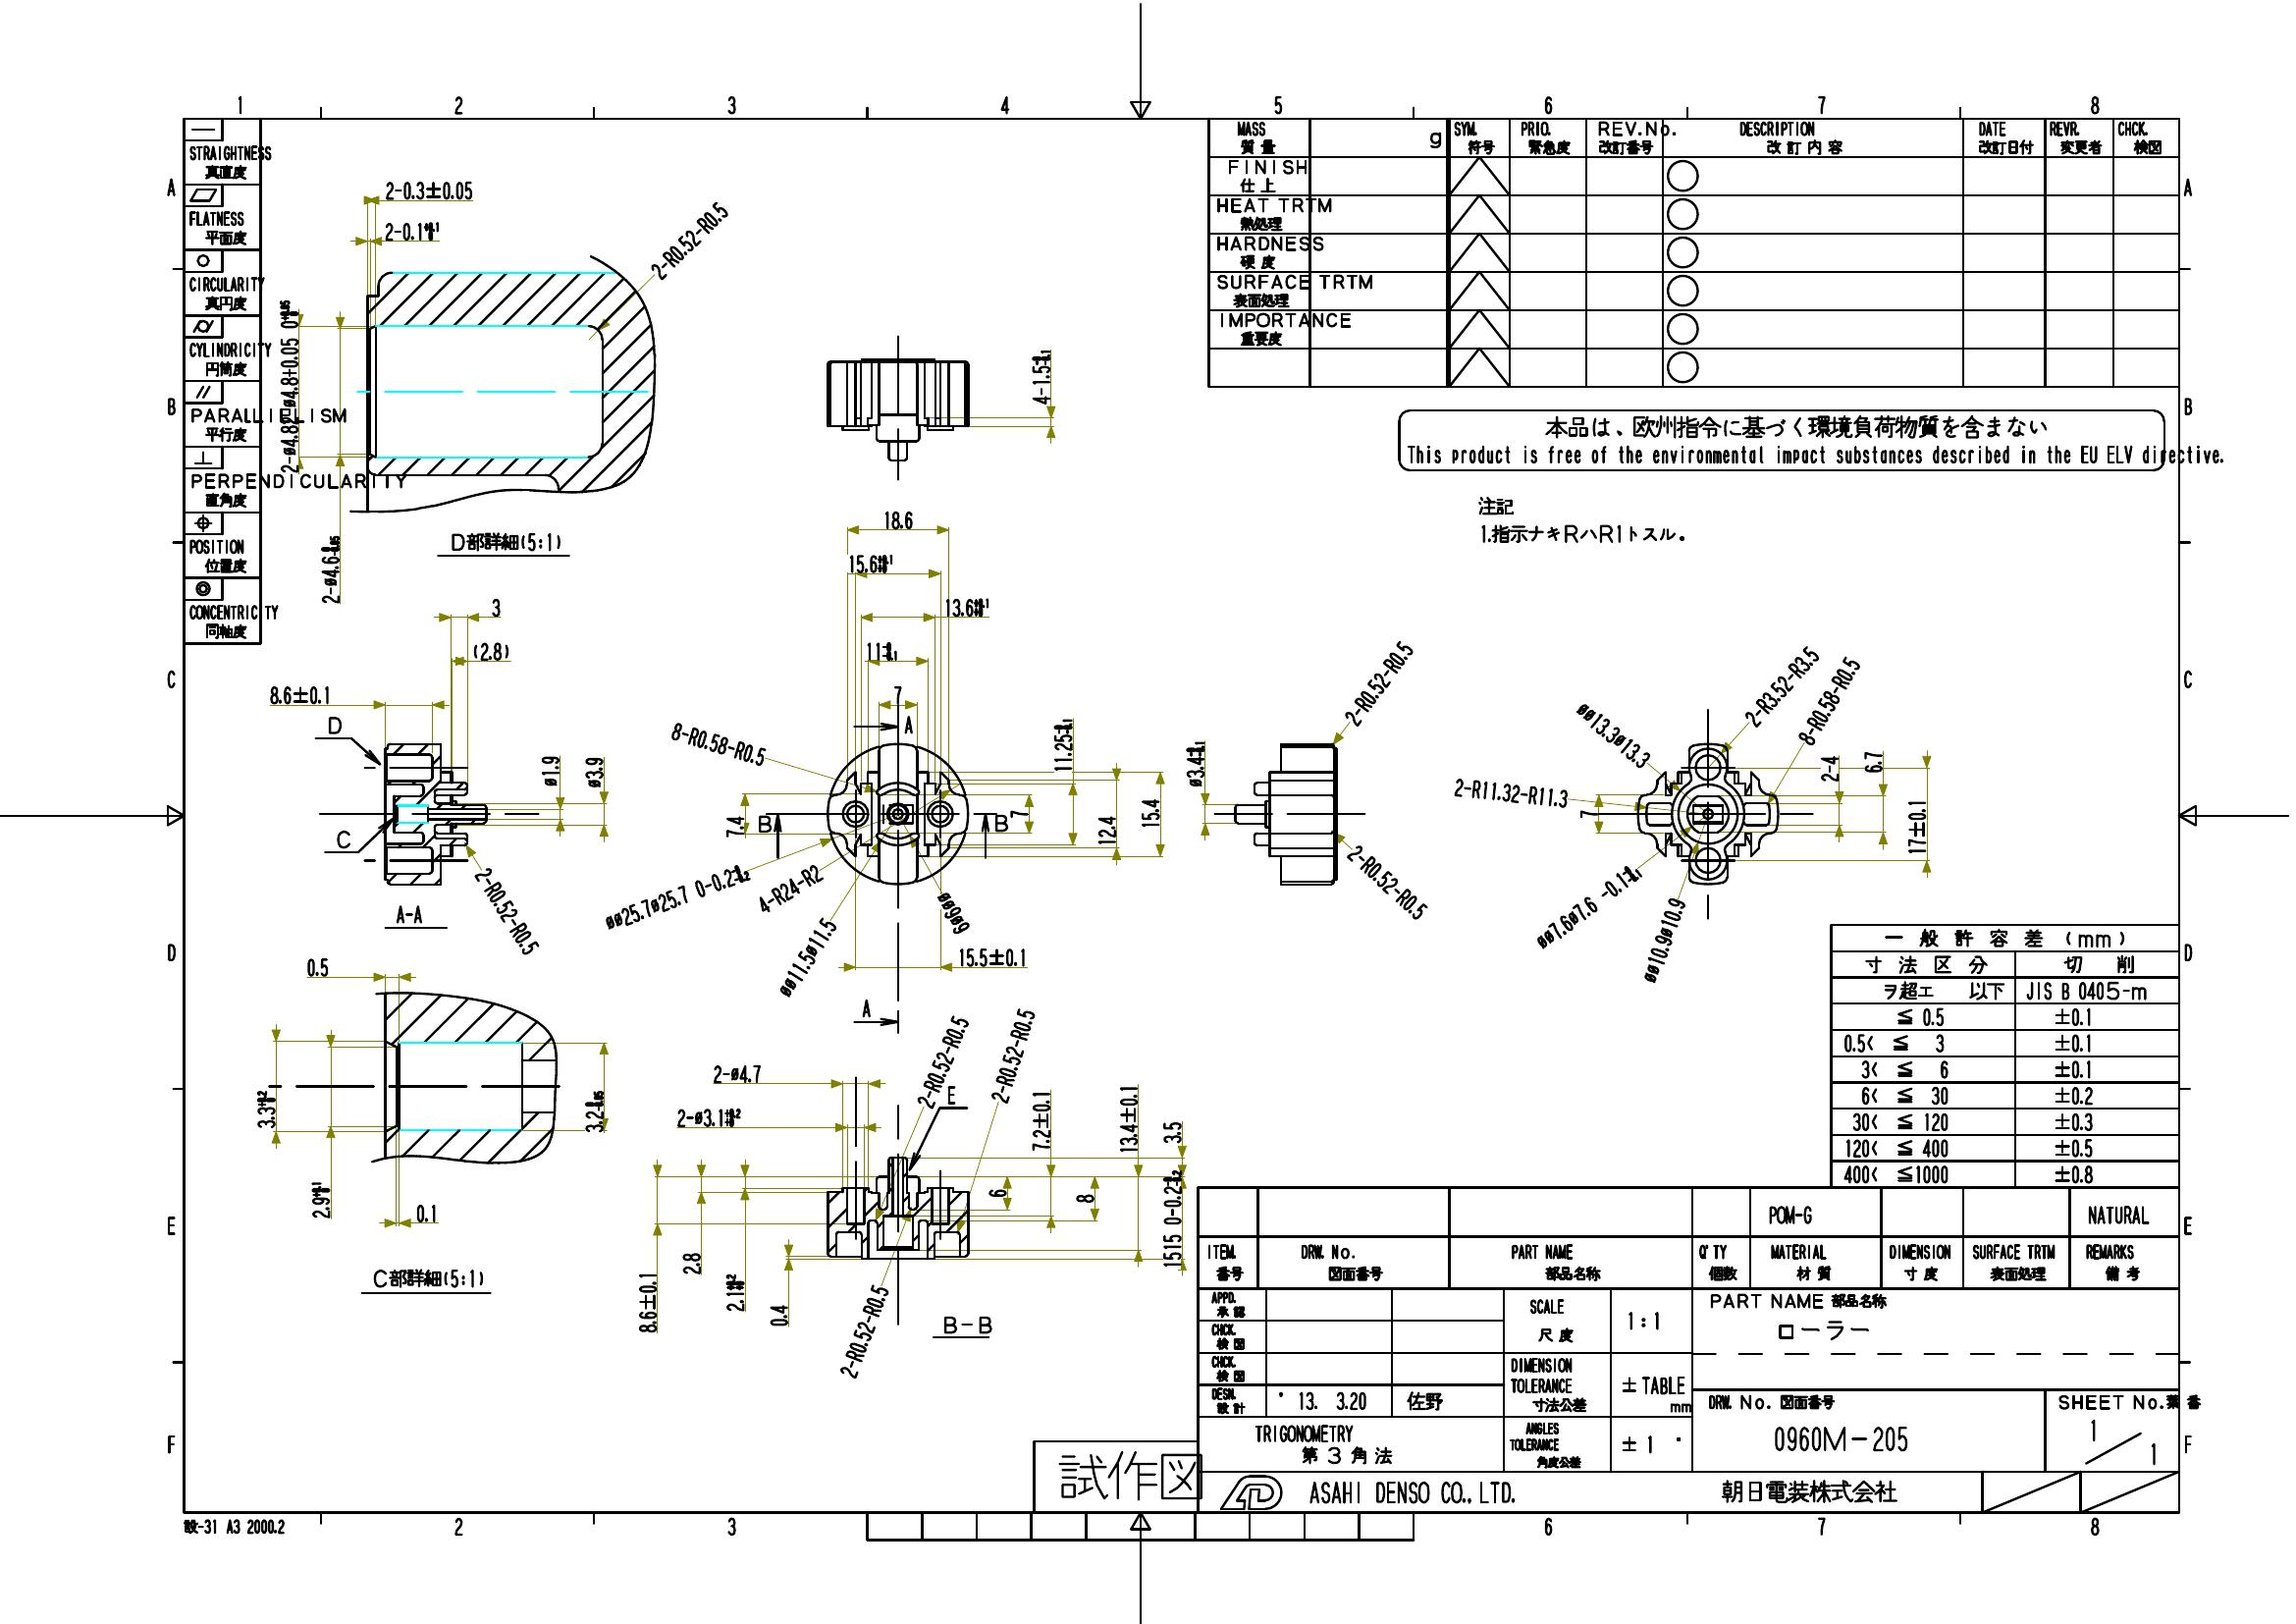anntotation_text: (1398, 408, 2164, 471), (1031, 1439, 1196, 1513), (1477, 492, 1685, 543), (371, 1265, 487, 1290), (448, 529, 562, 554), (181, 1515, 285, 1536), (940, 1313, 993, 1334), (393, 903, 423, 924), (332, 828, 355, 849), (323, 714, 346, 735), (856, 997, 875, 1018), (755, 814, 773, 831), (943, 1084, 959, 1104), (993, 816, 1010, 831), (903, 715, 913, 736)
dimension_text: (599, 886, 754, 907), (1525, 895, 1651, 916), (1449, 782, 1569, 803), (639, 228, 740, 251), (1161, 1167, 1182, 1267), (1816, 652, 1838, 750), (933, 1014, 954, 1109), (1337, 872, 1437, 891), (383, 179, 474, 200), (1651, 895, 1672, 986), (497, 861, 516, 960), (1003, 1005, 1022, 1104), (1773, 636, 1792, 735), (1569, 724, 1658, 745), (669, 735, 766, 754), (854, 1283, 873, 1380), (1368, 634, 1388, 729), (796, 914, 815, 1002), (1117, 1083, 1138, 1153), (320, 534, 339, 606), (752, 879, 824, 898), (267, 684, 332, 705), (1904, 794, 1927, 854), (957, 947, 1028, 967), (636, 1271, 657, 1334), (673, 1107, 741, 1127), (1029, 346, 1051, 404), (381, 221, 443, 241), (1031, 1090, 1051, 1151), (1052, 715, 1073, 772), (255, 1084, 278, 1128), (711, 1063, 762, 1083), (942, 889, 963, 935), (1184, 740, 1205, 786), (848, 554, 896, 573), (943, 598, 991, 617), (724, 1271, 745, 1313), (583, 1090, 603, 1132), (473, 640, 509, 661), (539, 752, 560, 787), (583, 754, 604, 789), (864, 640, 899, 661), (311, 1179, 329, 1218), (1820, 752, 1841, 782), (884, 510, 915, 529), (1096, 814, 1116, 845), (1140, 796, 1159, 828), (682, 1250, 703, 1278), (1161, 1118, 1182, 1146), (766, 1302, 789, 1327), (304, 956, 330, 977), (1864, 749, 1883, 775), (726, 816, 745, 838), (413, 1204, 437, 1222), (487, 598, 504, 615), (1007, 808, 1029, 819), (891, 684, 903, 700)
object: (350, 255, 655, 513), (371, 991, 557, 1165), (826, 742, 970, 884), (1635, 742, 1778, 884), (383, 743, 488, 884), (1233, 742, 1337, 884), (826, 1156, 970, 1258), (826, 359, 970, 460)
title_block: (1198, 1186, 2180, 1513), (1207, 116, 2182, 387), (1829, 924, 2180, 1188), (183, 120, 260, 643)
